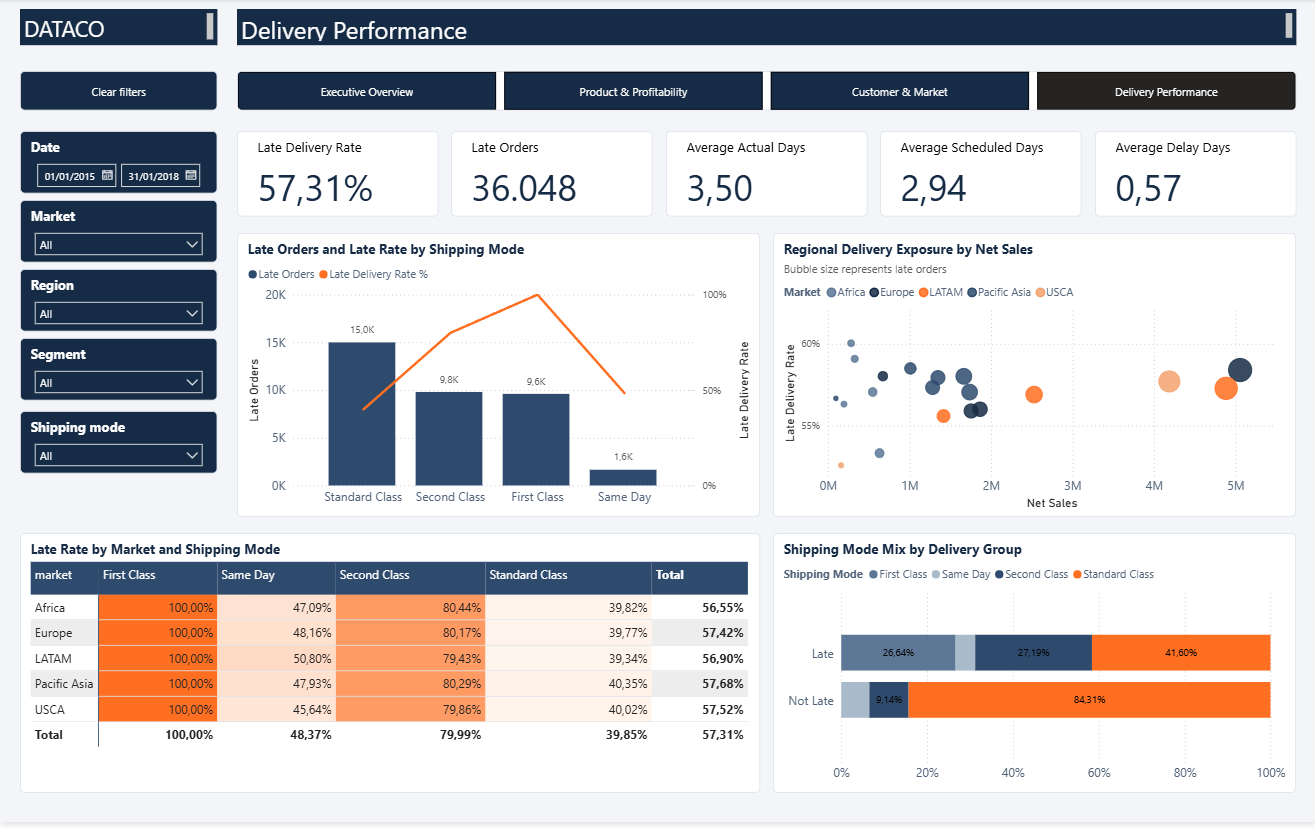

The page's visual inventory and layout, read from the dashboard file:
{"tool":"powerbi","page":{"name":"Delivery Performance","canvas":[1600,1000],"ordinal":3},"visuals":[{"type":"textbox","box":[24,12,240,44],"z":0},{"type":"textbox","box":[288,12,1288,44],"z":1000},{"type":"actionButton","box":[24,88,240,48],"z":2000},{"type":"pageNavigator","box":[288,88,1288,48],"z":3000},{"type":"slicer","title":"Date","fields":{"Values":["DimDate.Date"]},"box":[24,160,240,76],"z":4000},{"type":"cardVisual","fields":{"Data":["FactOrder.Late Delivery Rate %"]},"box":[288,160,244.8,104],"z":5000},{"type":"cardVisual","fields":{"Data":["FactOrder.Late Orders"]},"box":[548.8,160,244.8,104],"z":6000},{"type":"cardVisual","fields":{"Data":["FactOrder.Avg Actual Shipping Days"]},"box":[809.6,160,244.8,104],"z":7000},{"type":"cardVisual","fields":{"Data":["FactOrder.Avg Scheduled Shipping Days"]},"box":[1070.4,160,244.8,104],"z":8000},{"type":"cardVisual","fields":{"Data":["FactOrder.Avg Delay Days"]},"box":[1331.2,160,244.8,104],"z":9000},{"type":"slicer","title":"Market","fields":{"Values":["DimGeography.market"]},"box":[24,244,240,76],"z":10000},{"type":"lineClusteredColumnComboChart","title":"Late Orders and Late Rate by Shipping Mode","fields":{"Category":["DimShipping.shipping_mode"],"Y":["FactOrder.Late Orders"],"Y2":["FactOrder.Late Delivery Rate %"]},"box":[288.1,284.5,635.9,345.3],"z":11000},{"type":"scatterChart","title":"Regional Delivery Exposure by Net Sales","fields":{"Category":["DimGeography.order_region"],"Series":["DimGeography.market"],"Size":["FactOrder.Late Orders"],"X":["FactOrder.Net Sales (Order)"],"Y":["FactOrder.Late Delivery Rate %"]},"box":[939.8,284.5,635.9,345.3],"z":12000},{"type":"slicer","title":"Region","fields":{"Values":["DimGeography.order_region"]},"box":[24,328,240,76],"z":13000},{"type":"slicer","title":"Segment","fields":{"Values":["DimCustomer.customer_segment"]},"box":[24,412,240,76],"z":14000},{"type":"slicer","title":"Shipping mode","fields":{"Values":["DimShipping.shipping_mode"]},"box":[24,500.4,240,76],"z":16000},{"type":"pivotTable","title":"Late Rate by Market and Shipping Mode","fields":{"Columns":["DimShipping.shipping_mode"],"Rows":["DimGeography.market"],"Values":["FactOrder.Late Delivery Rate %"]},"box":[24.3,649.2,899.7,316.1],"z":17000},{"type":"hundredPercentStackedBarChart","title":"Shipping Mode Mix by Delivery Group","fields":{"Category":["FactOrder.Delivery Group"],"Series":["DimShipping.shipping_mode"],"Y":["FactOrder.Total Orders"]},"box":[939.8,649.2,635.9,316.1],"z":18000}]}

Visuals, with their boxes in screenshot pixels (x1, y1, x2, y2), scaled from the page's 1600x1000 canvas onto the 1315x828 screenshot:
textbox: Rect(20, 10, 217, 46)
textbox: Rect(237, 10, 1295, 46)
actionButton: Rect(20, 73, 217, 113)
pageNavigator: Rect(237, 73, 1295, 113)
"Date" slicer: Rect(20, 132, 217, 195)
cardVisual - FactOrder.Late Delivery Rate %: Rect(237, 132, 438, 219)
cardVisual - FactOrder.Late Orders: Rect(451, 132, 652, 219)
cardVisual - FactOrder.Avg Actual Shipping Days: Rect(665, 132, 867, 219)
cardVisual - FactOrder.Avg Scheduled Shipping Days: Rect(880, 132, 1081, 219)
cardVisual - FactOrder.Avg Delay Days: Rect(1094, 132, 1295, 219)
"Market" slicer: Rect(20, 202, 217, 265)
"Late Orders and Late Rate by Shipping Mode" lineClusteredColumnComboChart: Rect(237, 236, 759, 521)
"Regional Delivery Exposure by Net Sales" scatterChart: Rect(772, 236, 1295, 521)
"Region" slicer: Rect(20, 272, 217, 335)
"Segment" slicer: Rect(20, 341, 217, 404)
"Shipping mode" slicer: Rect(20, 414, 217, 477)
"Late Rate by Market and Shipping Mode" pivotTable: Rect(20, 538, 759, 799)
"Shipping Mode Mix by Delivery Group" hundredPercentStackedBarChart: Rect(772, 538, 1295, 799)
